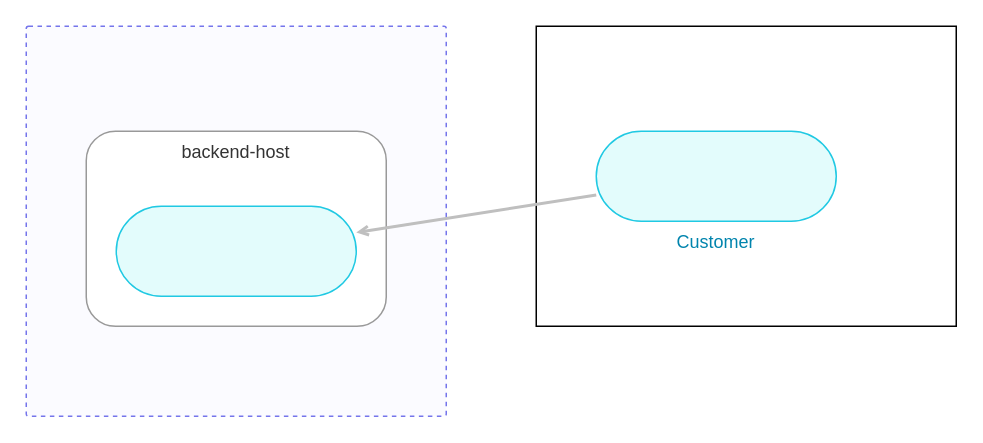
This 983x443 diagram has some shape labels left out. Each missing label, with the box of its shape:
API: (115, 205, 356, 296)
Internal: (25, 25, 446, 416)
